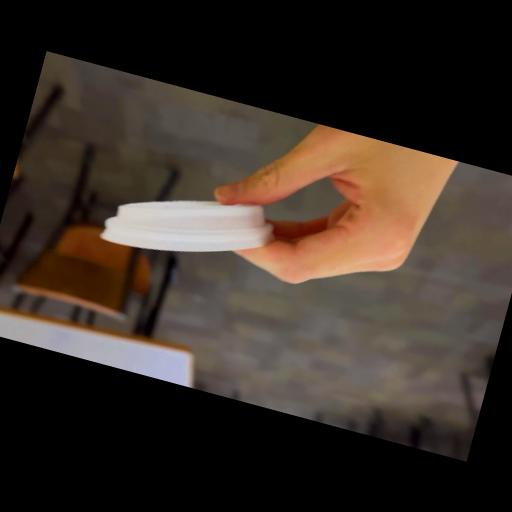lp_cup_lids: (91, 163, 290, 289)
